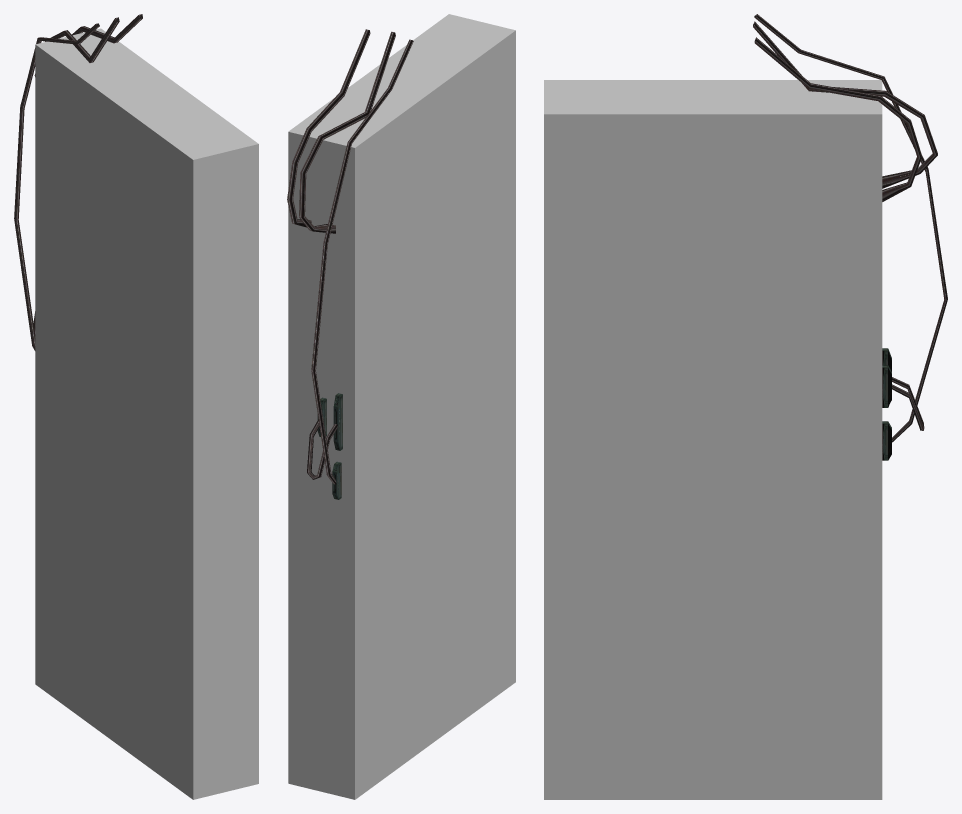
The model's file is case_3.fbx.
3 views of the same model, side by side, from view 1: azimuth 30°, elevation 25°; view 2: azimuth 150°, elevation 25°; view 3: azimuth 270°, elevation 25° (orthographic). The views are drawn at different scales.
Visible parts, largest first — view 1: mesh_1, mesh_2; view 2: mesh_1, mesh_0, mesh_2; view 3: mesh_1, mesh_2.
Part boxes in pixels (x1=…): mesh_1: x1=35, y1=28, x2=258, y2=799; mesh_2: x1=14, y1=14, x2=142, y2=350; mesh_1: x1=288, y1=14, x2=515, y2=799; mesh_0: x1=288, y1=132, x2=354, y2=799; mesh_2: x1=287, y1=29, x2=413, y2=499; mesh_1: x1=544, y1=80, x2=882, y2=799; mesh_2: x1=753, y1=14, x2=947, y2=460.
Bounding box in the file's own units: 23.86 × 245 × 119.
